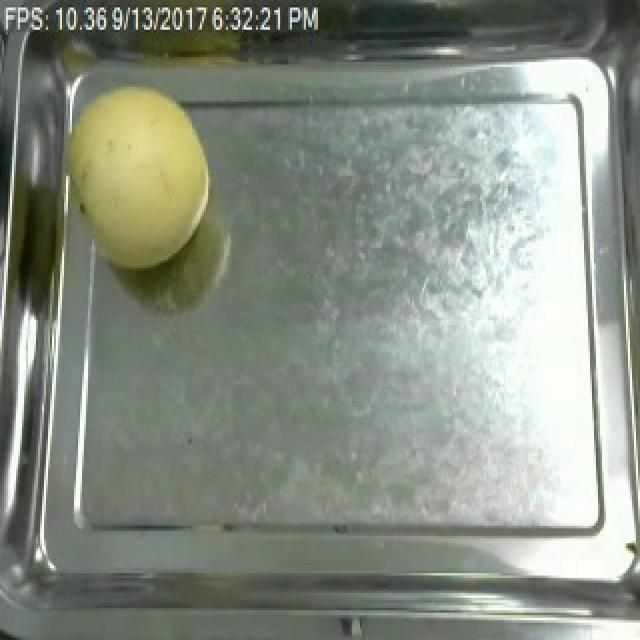Fruit: (46, 74, 220, 278)
